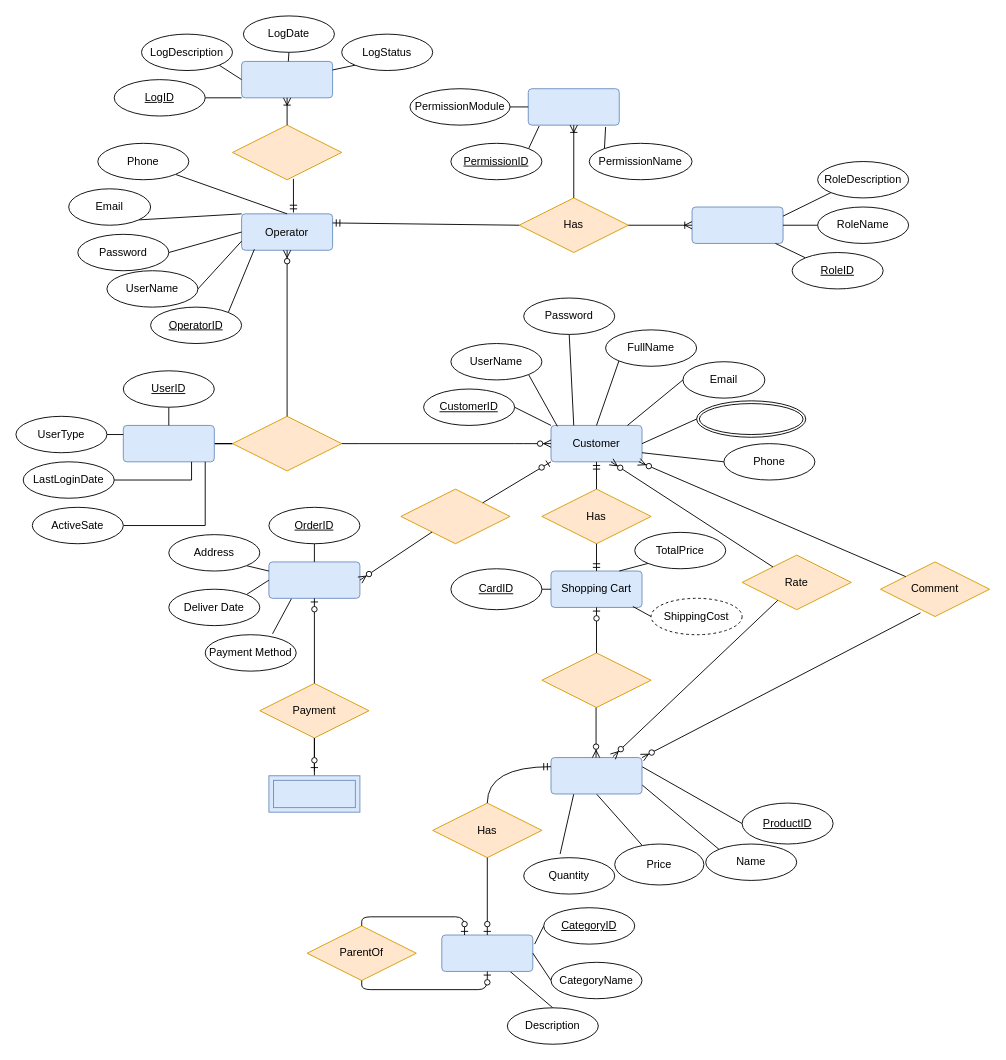
Some shapes in this 1006 by 1060 pixel diagram are drawn without their labels. Each missing label, with the centre of its shape:
"AddToCart" belongs at pixel 596 680.
"Category" belongs at pixel 487 952.
"EachAction" belongs at pixel 287 152.
"Log" belongs at pixel 287 79.
"Login" belongs at pixel 287 443.
"Order" belongs at pixel 314 579.
"OrderInvoice" belongs at pixel 314 793.
"Permission" belongs at pixel 573 106.
"Product" belongs at pixel 596 775.
"Role" belongs at pixel 737 224.
"Shipping Addree" belongs at pixel 751 418.
"Submit" belongs at pixel 455 516.
"User" belongs at pixel 168 443.
